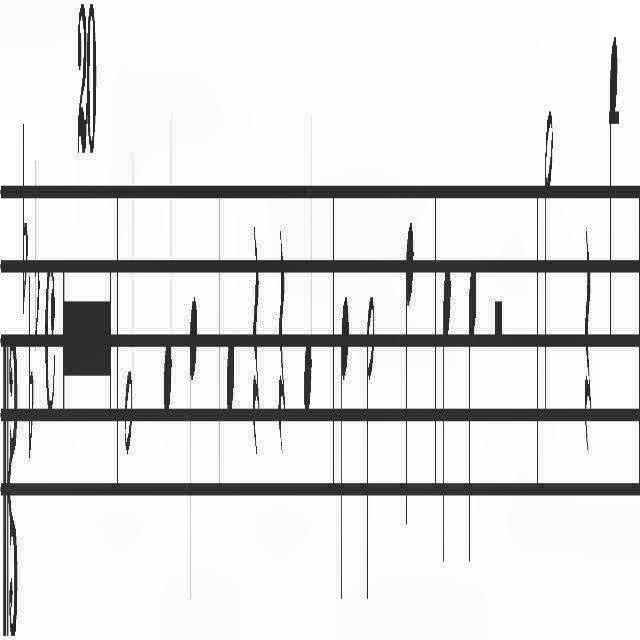Bemol: (33, 148, 39, 356), (22, 120, 28, 326), (27, 277, 33, 463)
Half-note: (123, 128, 133, 468), (543, 94, 553, 433), (365, 285, 375, 611)
Quarter-note: (162, 82, 174, 434), (225, 99, 235, 429), (339, 293, 349, 619), (405, 211, 415, 537), (441, 252, 451, 578), (609, 25, 619, 351), (302, 99, 312, 421), (467, 260, 477, 570), (190, 292, 198, 624)
Quarter-rest: (278, 223, 286, 479), (584, 214, 592, 466), (252, 218, 260, 458)
